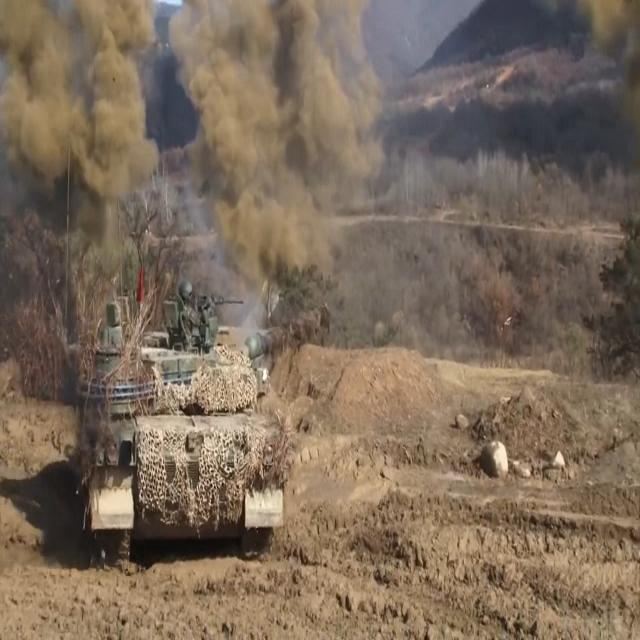korea tank: (19, 275, 333, 569)
